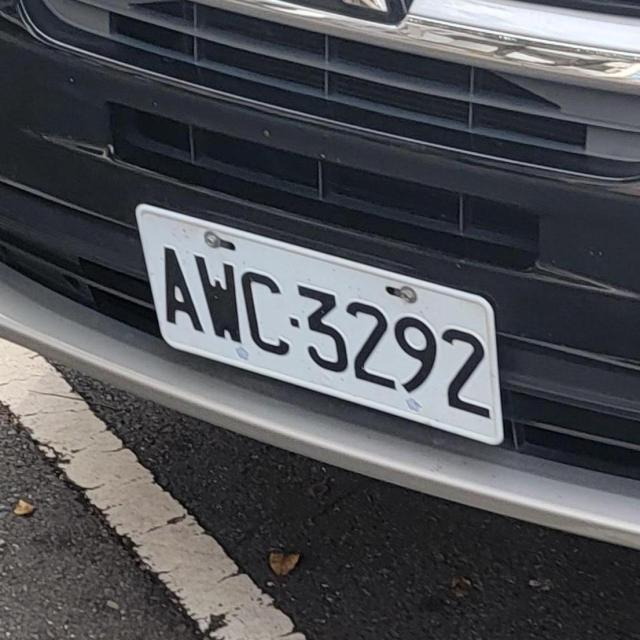W: (126, 203, 511, 427)
